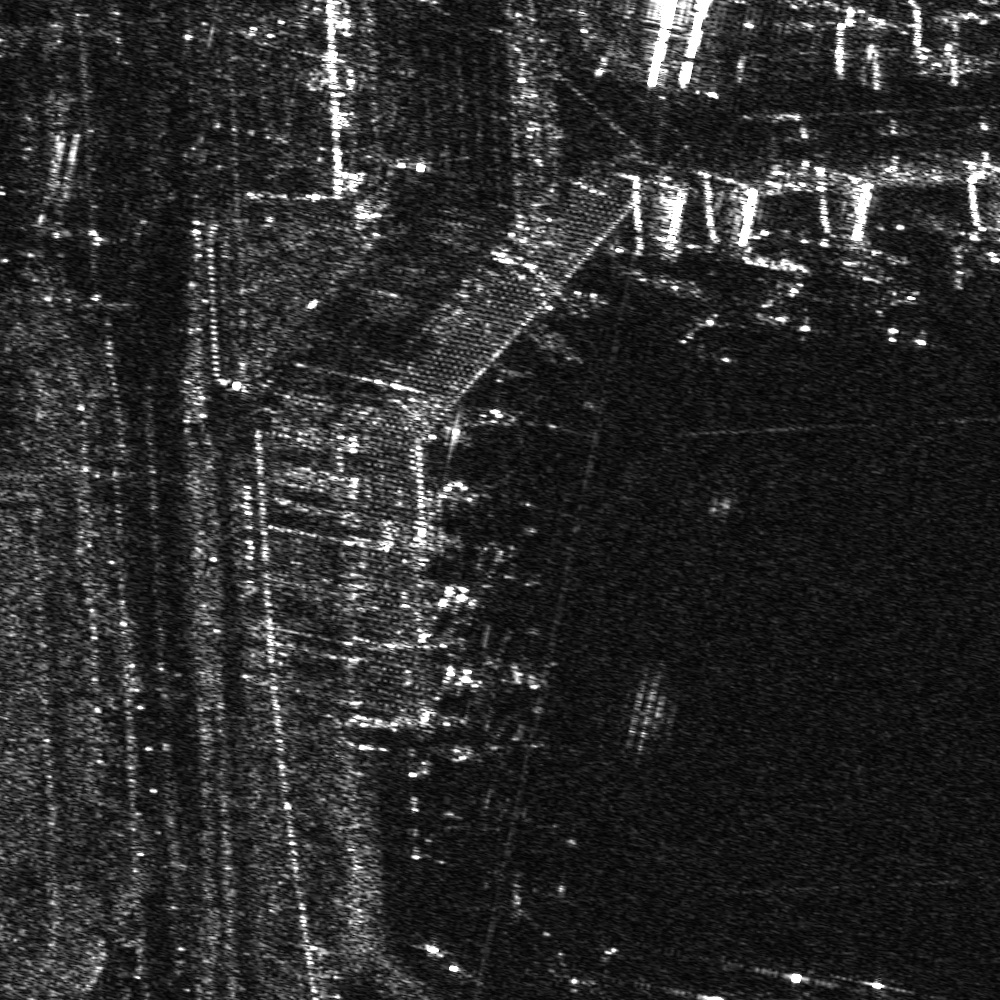A220: (757, 262, 831, 334), (737, 964, 813, 999)
Boeing737: (679, 291, 745, 368)
Boeing787: (865, 255, 929, 345)
